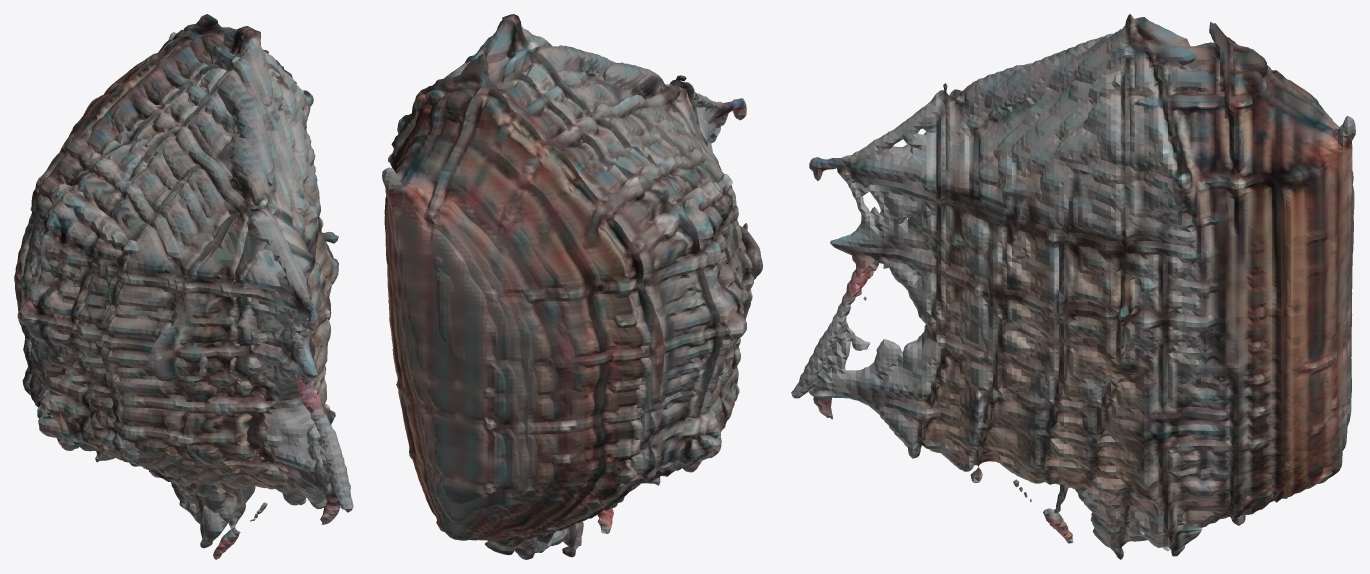
3 renders of one model, left to right at view 1: azimuth 30°, elevation 25°; view 2: azimuth 150°, elevation 25°; view 3: azimuth 270°, elevation 25°, orthographic. The views are drawn at different scales.
Parts seen in each view (by area): view 1: geometry_0; view 2: geometry_0; view 3: geometry_0.
Boxes of the visible parts, bbox=[...] form: geometry_0: bbox=[14, 14, 353, 559]; geometry_0: bbox=[382, 14, 762, 559]; geometry_0: bbox=[791, 14, 1355, 559].
Size of the model in its own units: 0.5858 by 0.9082 by 0.8152.
